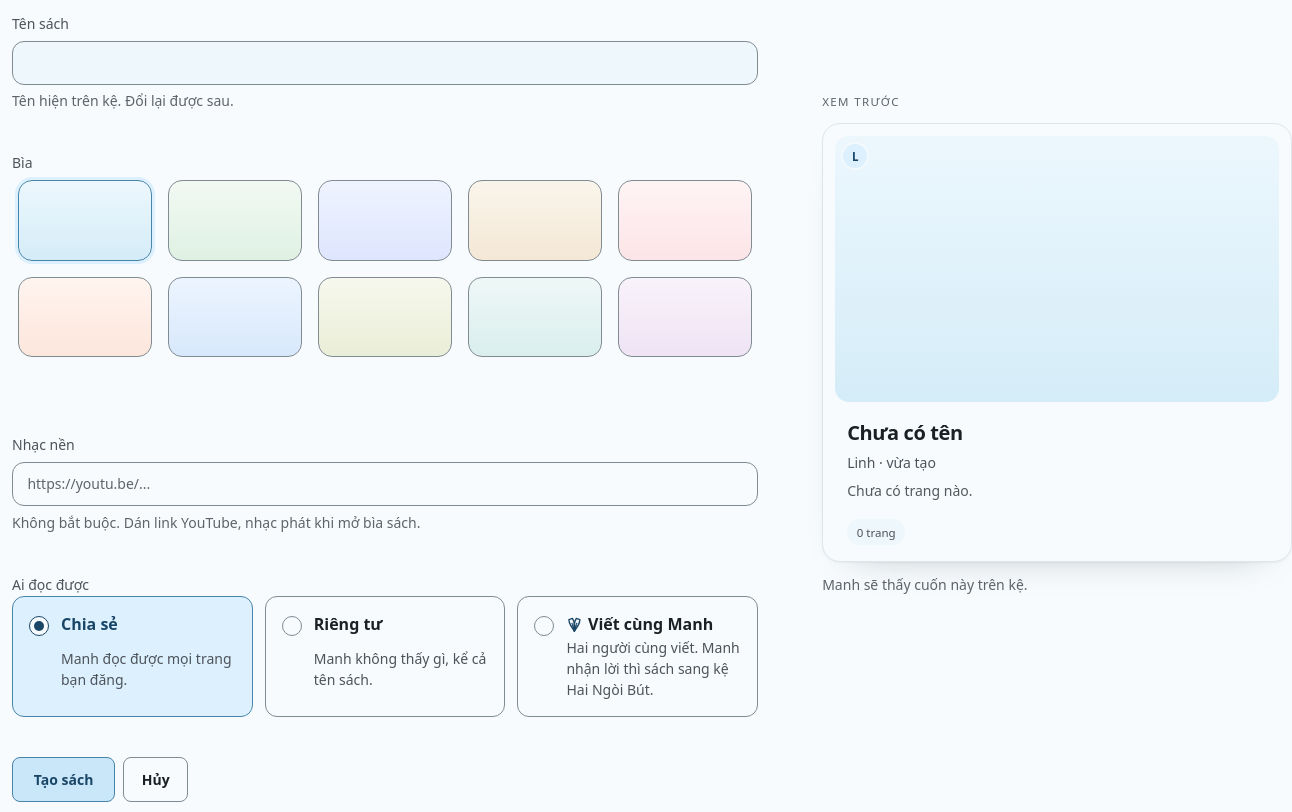
Scenario: BookForm o nhac nen › link sai chi bao loi sau khi roi o
In the field labelled "Tên sách": (385,63) [12,41,758,85], type "Chuyện chưa kể"
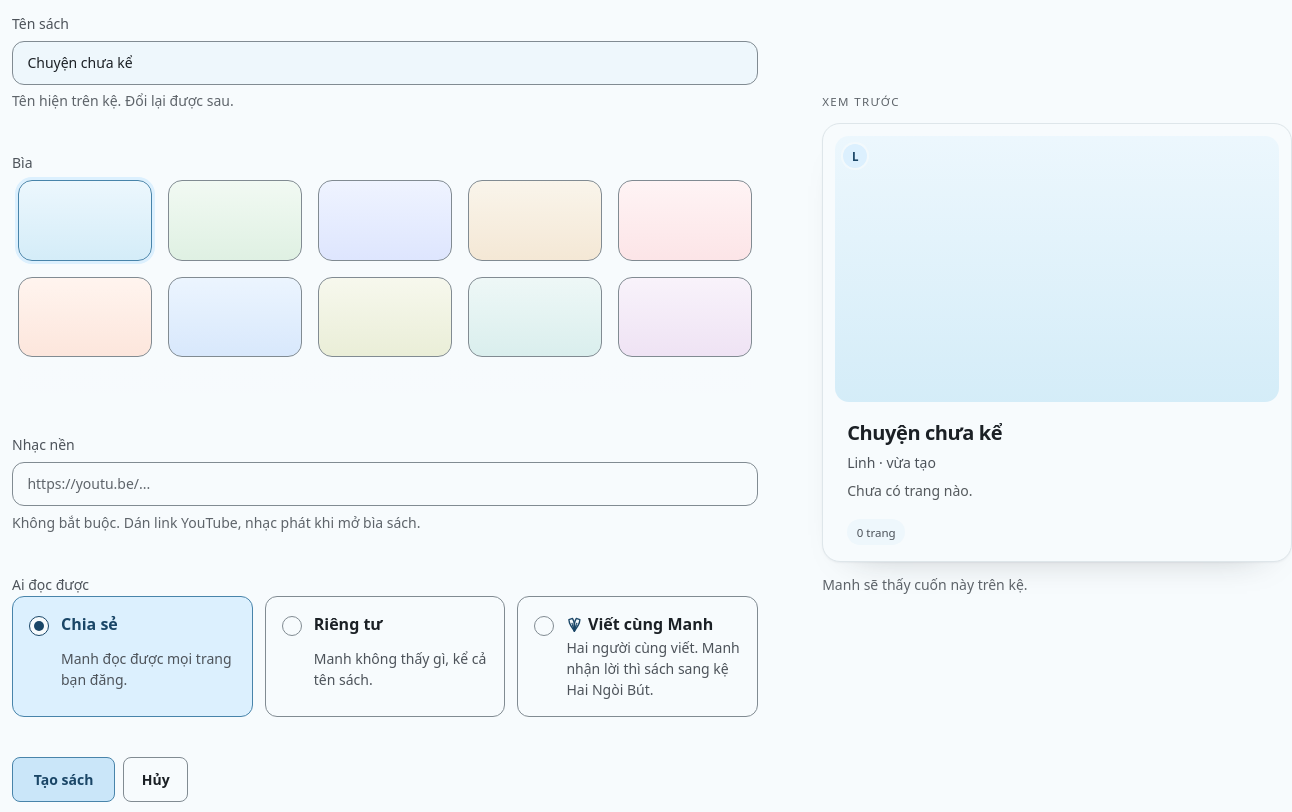
In the field labelled "Nhạc nền": (385,484) [12,462,758,506], type "https://youtube.com/@linh"
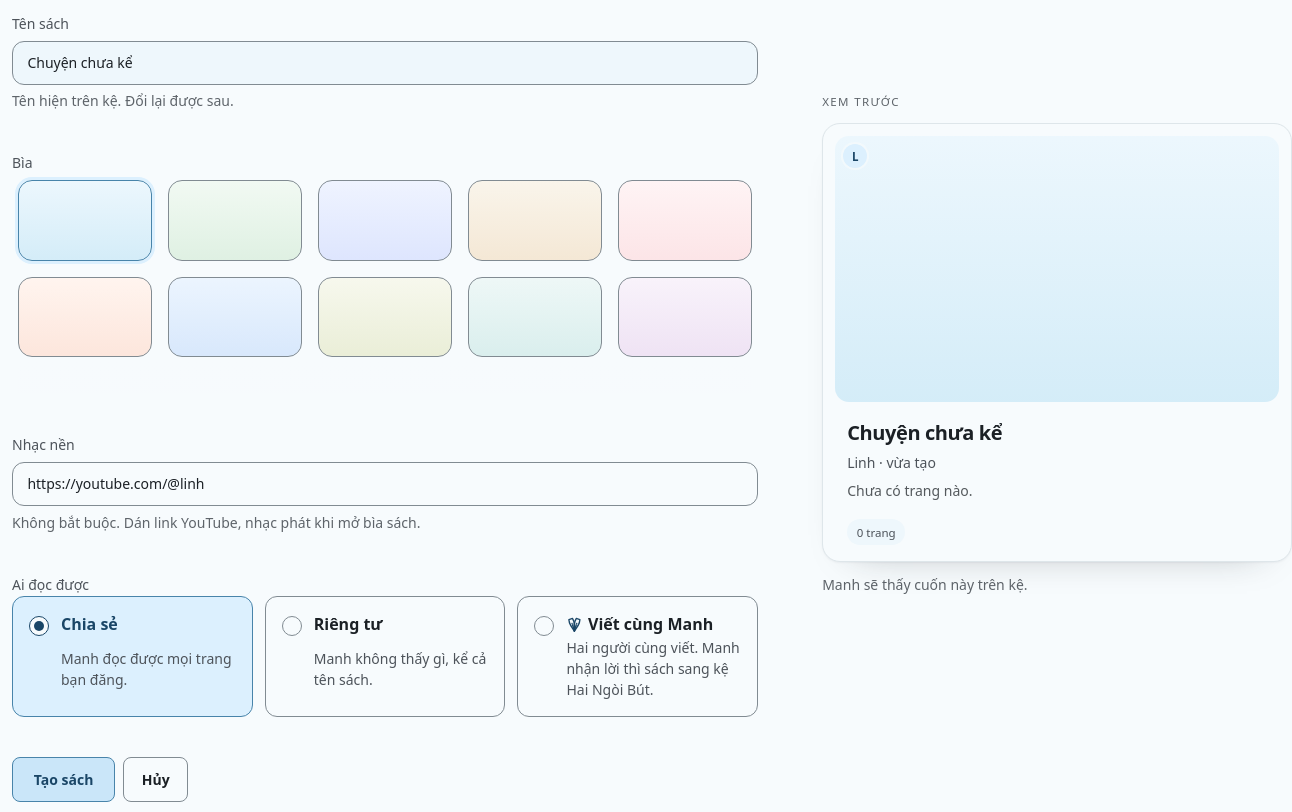
Check: the text "Không bắt buộc. Dán link YouTube, nhạc phát khi mở bìa sách." is shown, box [12,512,420,532]
Leave the field labelled "Nhạc nền", box [12,462,758,506]
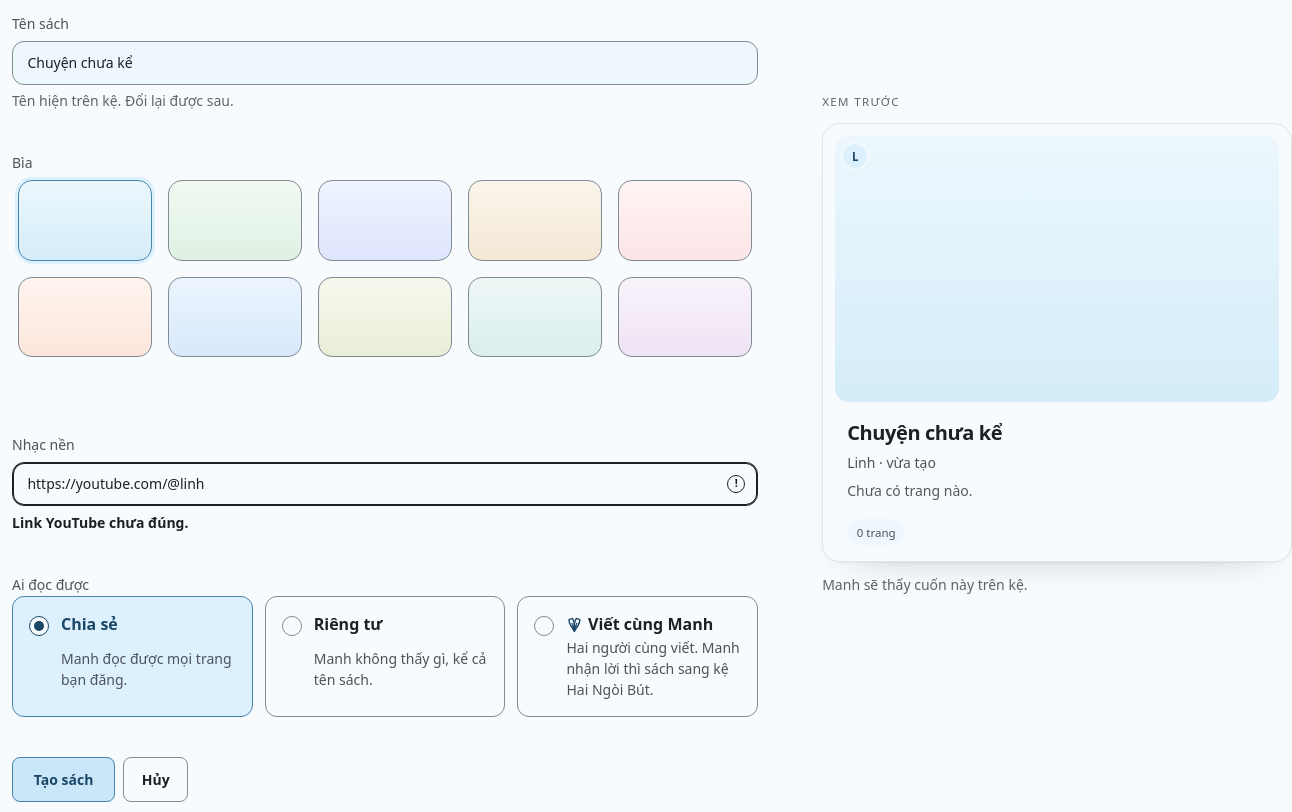
Check: the text "Link YouTube chưa đúng." is shown, box [12,512,188,532]
Check: the text "!" is shown, box [727,475,745,493]
